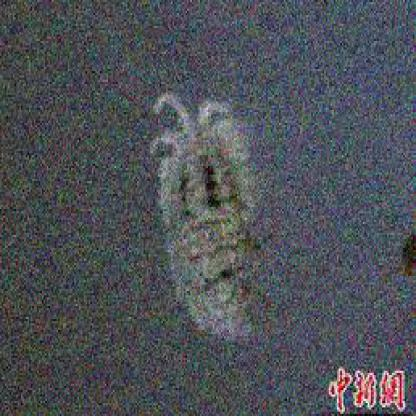mealy bug: (152, 94, 259, 332)
